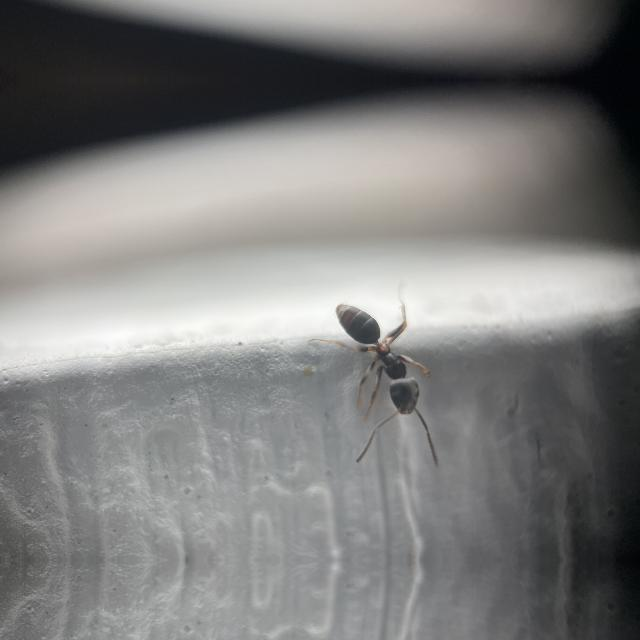Tapinoma: (316, 292, 454, 450)
